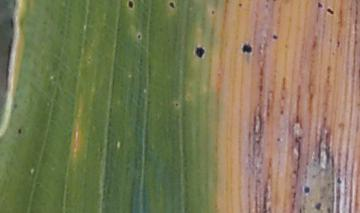tarspot: (193, 45, 205, 59), (241, 42, 253, 54), (301, 185, 311, 195), (326, 6, 335, 15), (314, 203, 322, 212), (127, 1, 135, 9), (271, 33, 279, 41), (167, 1, 176, 8), (16, 127, 23, 135), (210, 7, 216, 16), (336, 176, 342, 185), (236, 1, 243, 8), (316, 1, 323, 8), (136, 32, 142, 40), (172, 101, 180, 107), (279, 108, 285, 116), (275, 136, 281, 143)
